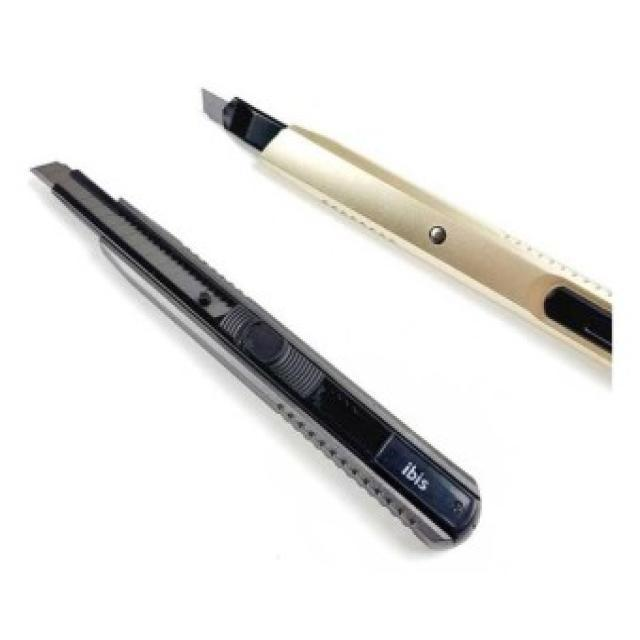cutter: (33, 155, 489, 562), (197, 80, 616, 372)
